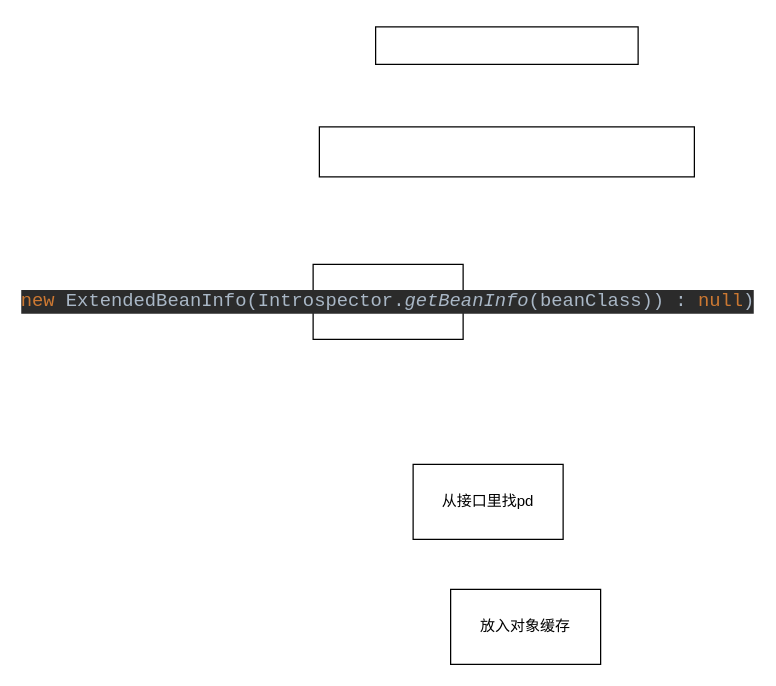
This 776x686 diagram has some shape labels left out. The centre of each missing label's shape, as x and y in pixels:
getPropertyDescriptors: [506,45]
先从strongClassCache拿没有的话再去softClassCache: [506,151]
